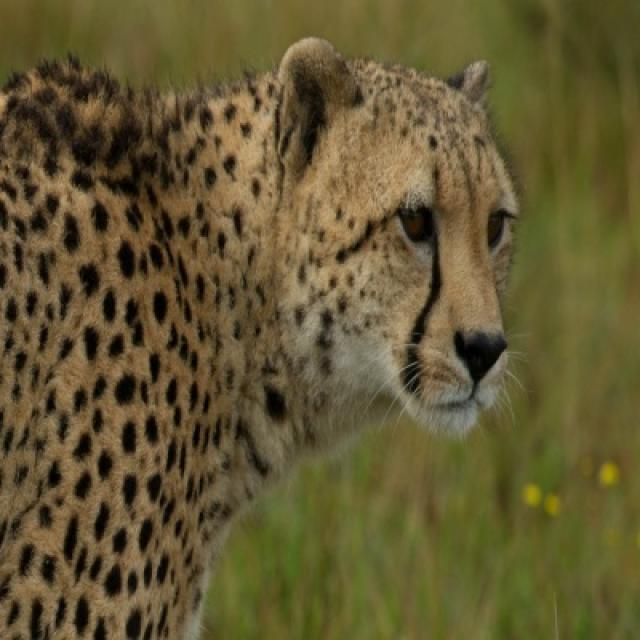Cheetah: (0, 31, 528, 636)
